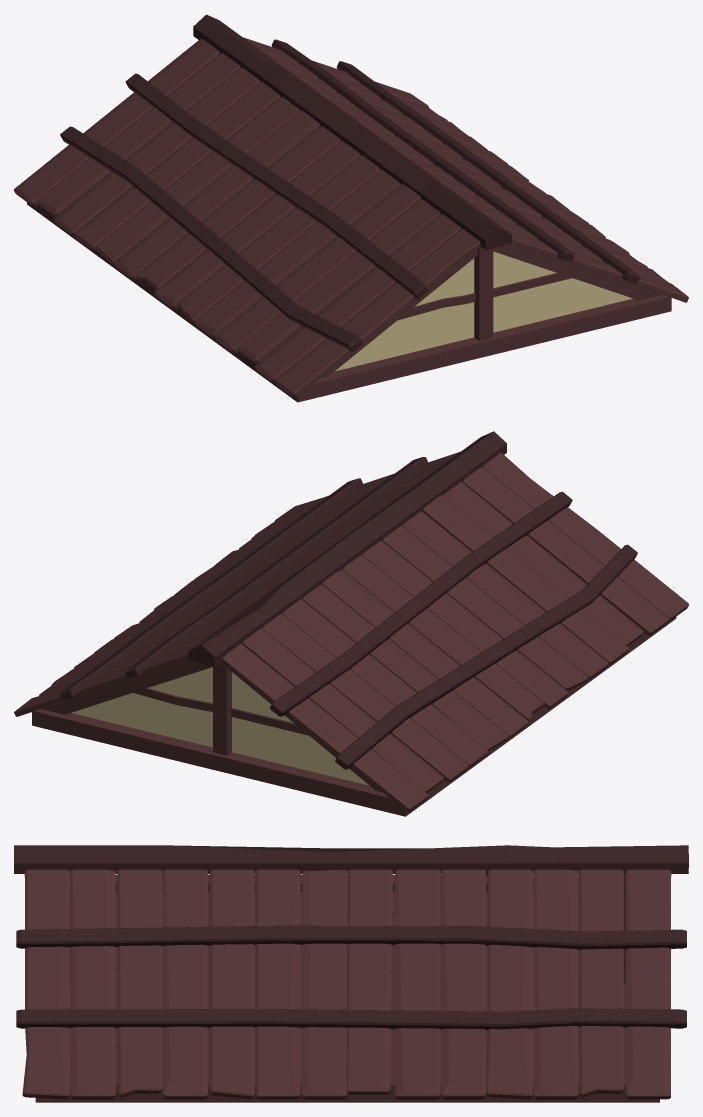
The model's file is SM_Bld_House_Roof_Wood_01.fbx.
3 views of the same model, one above another, from view 1: azimuth 30°, elevation 25°; view 2: azimuth 150°, elevation 25°; view 3: azimuth 270°, elevation 25° (orthographic). The views are drawn at different scales.
Visible parts, largest first — view 1: SM_Bld_House_Roof_Wood_01; view 2: SM_Bld_House_Roof_Wood_01; view 3: SM_Bld_House_Roof_Wood_01.
Boxes of the visible parts, box(x1,y1,x2,y2) form: SM_Bld_House_Roof_Wood_01: box(14, 14, 688, 402); SM_Bld_House_Roof_Wood_01: box(14, 431, 688, 816); SM_Bld_House_Roof_Wood_01: box(14, 845, 688, 1102).
Bounding box in the file's own units: 5.1 × 1.64 × 6.5.
